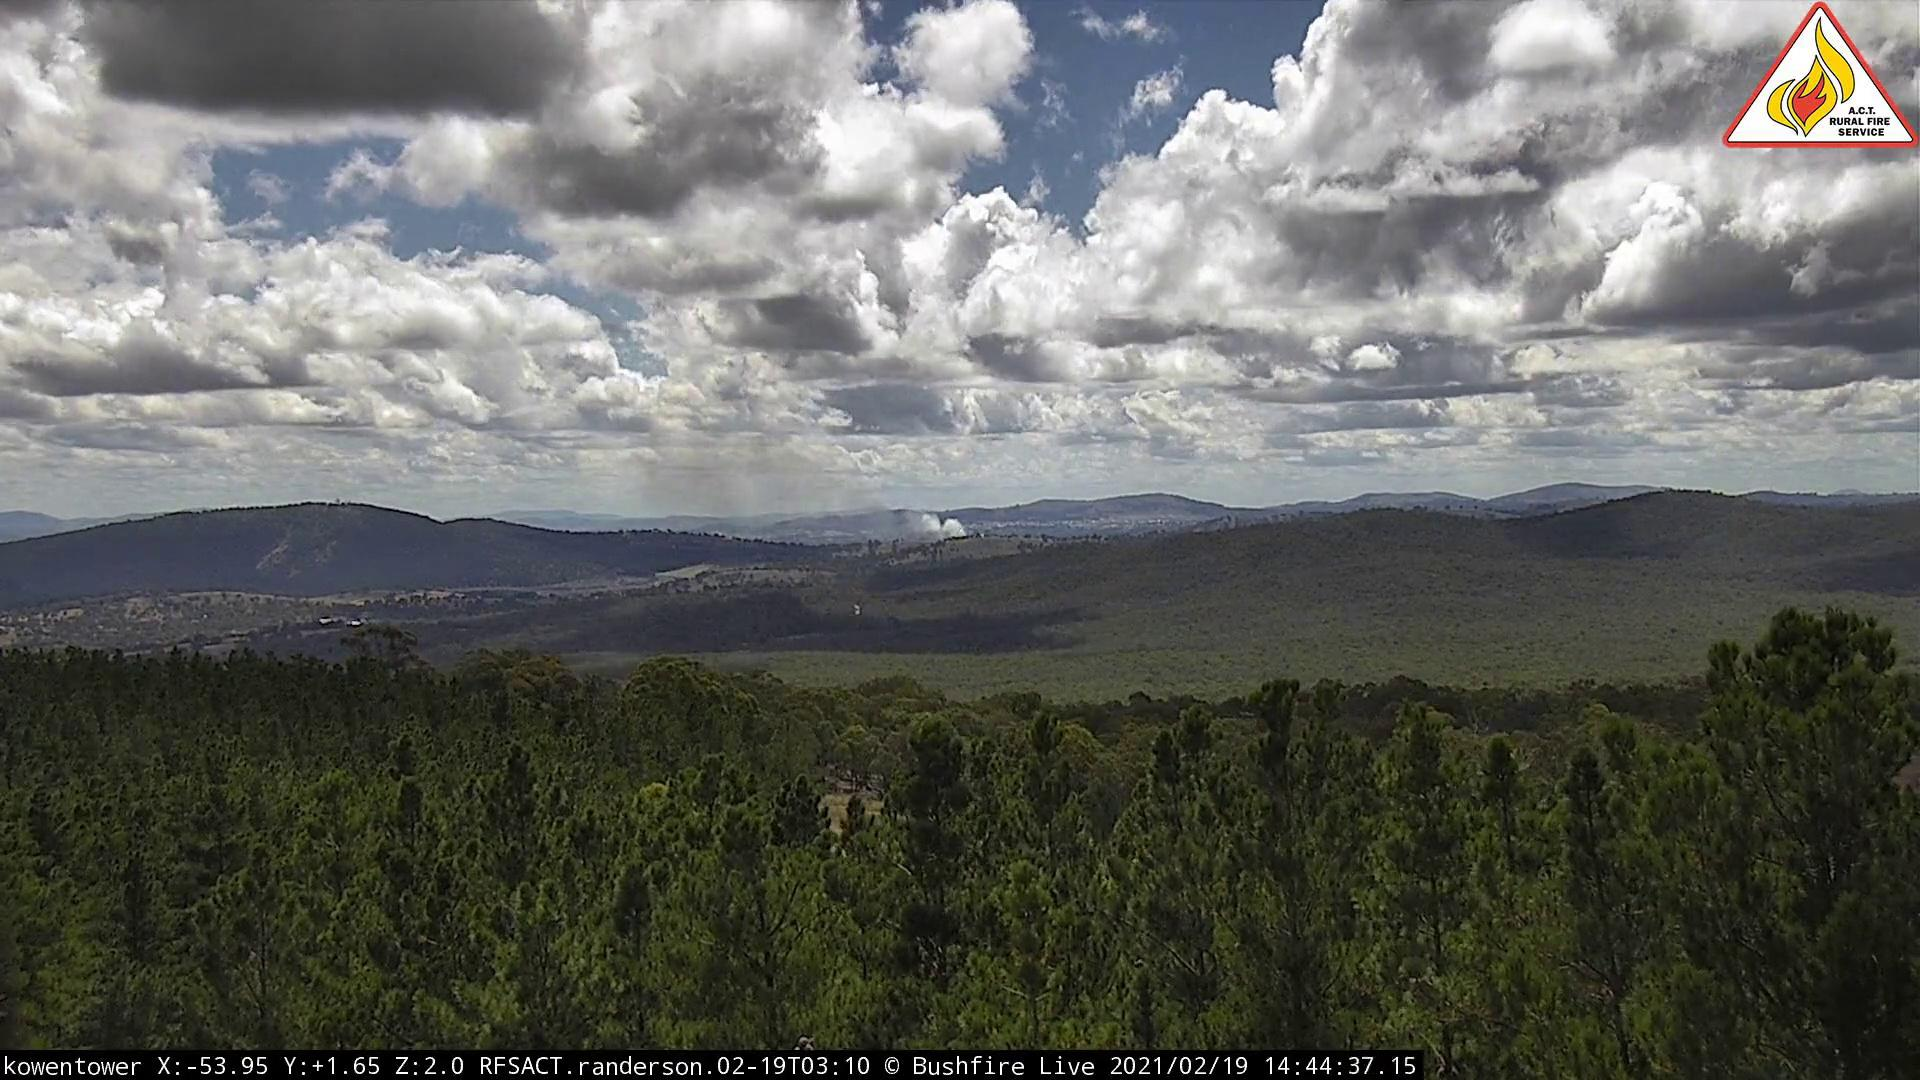instance_salient_object: (628, 423, 975, 549)
